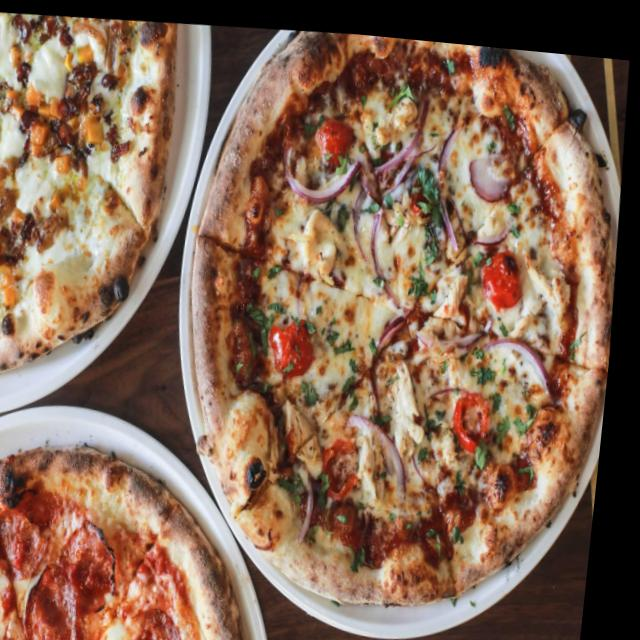pizza: (161, 16, 640, 621), (0, 5, 195, 395), (0, 425, 291, 640)
